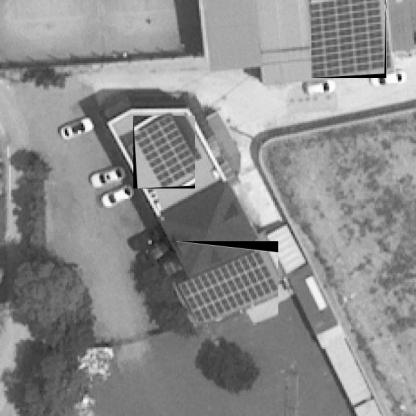solar-pv-panel: (178, 248, 278, 322), (311, 0, 386, 78), (134, 116, 195, 187)
